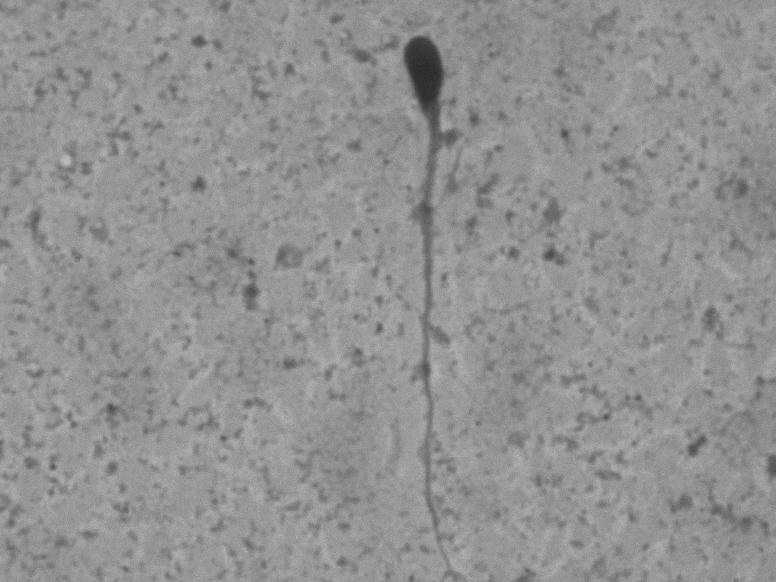Abnormal: (367, 23, 490, 563)
